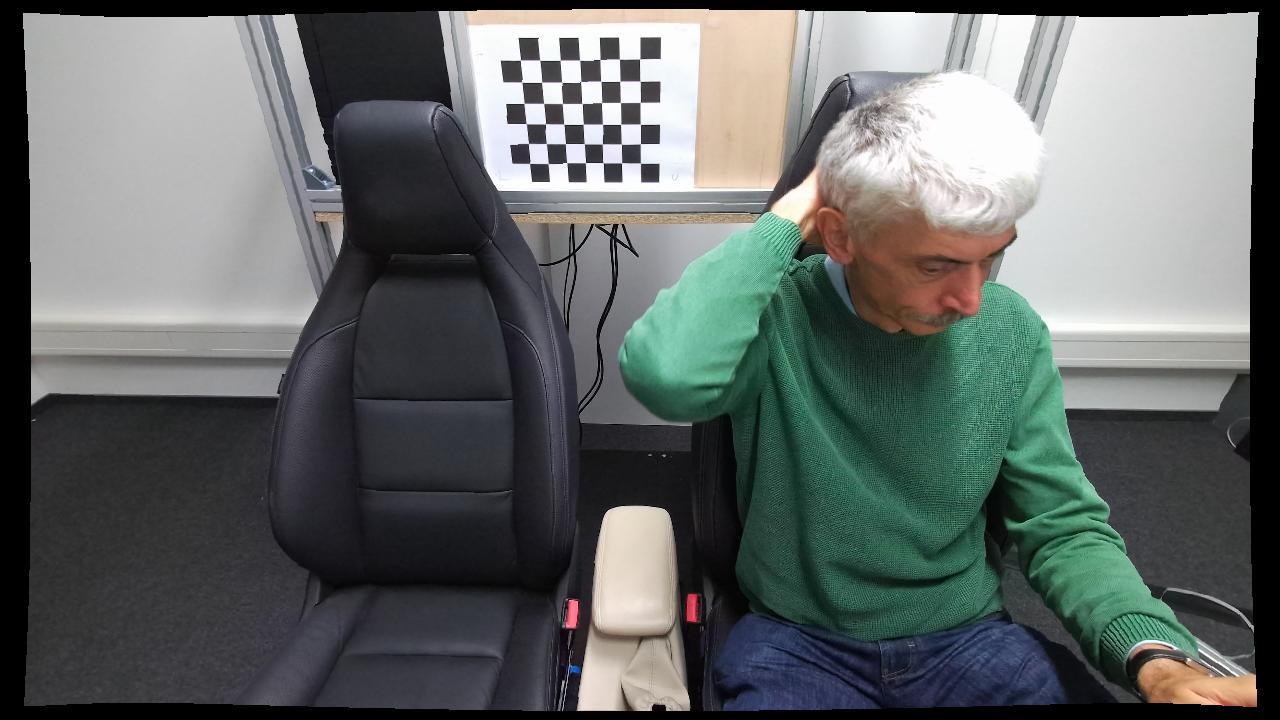Distracted: (614, 71, 1172, 712)
